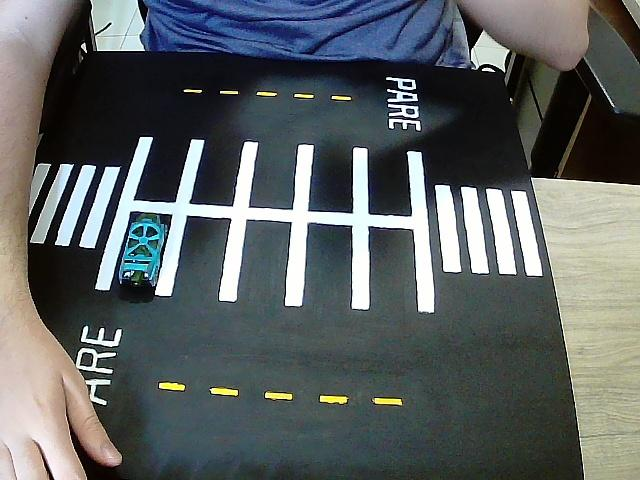Carro: (118, 212, 171, 300)
